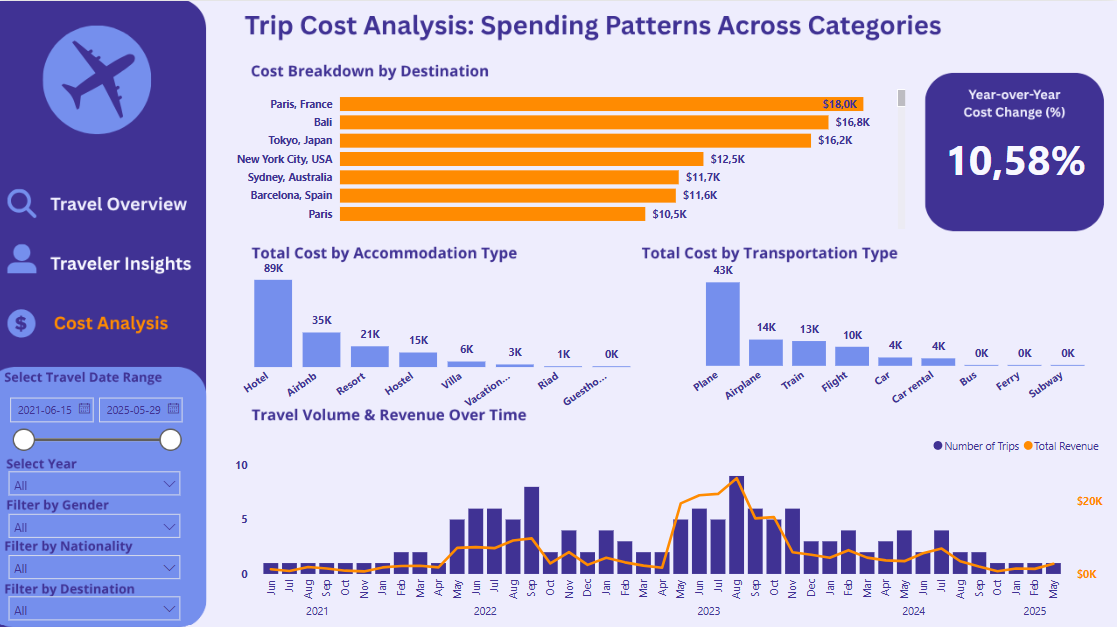

This screenshot's page, from the dashboard's own definition file:
{"tool":"powerbi","page":{"name":"Trip Cost Analysis","canvas":[1280,720],"ordinal":3},"visuals":[{"type":"clusteredColumnChart","fields":{"Category":["Travel details dataset.Accommodation Type"],"Y":["Travel details dataset.Accommodation Cost Total"]},"box":[267.1,282.9,485,195.7],"z":0},{"type":"clusteredColumnChart","fields":{"Category":["Travel details dataset.Transportation Type"],"Y":["Travel details dataset.Transportation Cost Total"]},"box":[785.7,281.4,482.9,195.7],"z":1000},{"type":"barChart","fields":{"Category":["Travel details dataset.Destination"],"Y":["Travel details dataset.Total Revenue"]},"box":[217.1,88.6,825.7,177.1],"z":2000},{"type":"card","fields":{"Values":["Travel details dataset.YoY Cost Change %"]},"box":[1072.9,120,182.9,120],"z":3000},{"type":"lineClusteredColumnComboChart","fields":{"Category":["DateTable.Year","DateTable.MonthName"],"Y":["Travel details dataset.Total Trips"],"Y2":["Travel details dataset.Total Revenue"]},"box":[267.1,488.6,1001.4,231.4],"z":4000},{"type":"actionButton","title":"Travel Insights","box":[2.6,268.5,230,65.4],"z":5000},{"type":"actionButton","title":"Travel Insights","box":[2.6,335.4,230,66.2],"z":6000},{"type":"actionButton","title":"Travel Insights","box":[2.6,201.5,230,64.6],"z":7000},{"type":"slicer","fields":{"Values":["DateTable.Date"]},"box":[2.9,448.6,207.1,78.6],"z":10000},{"type":"slicer","fields":{"Values":["Travel details dataset.Destination"]},"box":[4.3,675.7,205.7,44.3],"z":11000},{"type":"slicer","fields":{"Values":["Travel details dataset.Traveler Nationality"]},"box":[4.3,628.6,205.7,34.3],"z":12000},{"type":"slicer","fields":{"Values":["Travel details dataset.Traveler Gender"]},"box":[4.3,582,205.7,35.7],"z":14000},{"type":"slicer","fields":{"Values":["DateTable.Year"]},"box":[3.7,533,205.7,34.3],"z":15000}]}

Visuals, with their boxes on the page's 1280x720 design canvas (x1, y1, x2, y2). These are canvas units, not pixel positions in the 1117x627 screenshot, which may show the page scaled, cropped or inside an application window:
clusteredColumnChart - Travel details dataset.Accommodation Type x Travel details dataset.Accommodation Cost Total: crop(267, 283, 752, 479)
clusteredColumnChart - Travel details dataset.Transportation Type x Travel details dataset.Transportation Cost Total: crop(786, 281, 1269, 477)
barChart - Travel details dataset.Destination x Travel details dataset.Total Revenue: crop(217, 89, 1043, 266)
card - Travel details dataset.YoY Cost Change %: crop(1073, 120, 1256, 240)
lineClusteredColumnComboChart - DateTable.Year x DateTable.MonthName: crop(267, 489, 1268, 720)
"Travel Insights" actionButton: crop(3, 268, 233, 334)
"Travel Insights" actionButton: crop(3, 335, 233, 402)
"Travel Insights" actionButton: crop(3, 202, 233, 266)
slicer - DateTable.Date: crop(3, 449, 210, 527)
slicer - Travel details dataset.Destination: crop(4, 676, 210, 720)
slicer - Travel details dataset.Traveler Nationality: crop(4, 629, 210, 663)
slicer - Travel details dataset.Traveler Gender: crop(4, 582, 210, 618)
slicer - DateTable.Year: crop(4, 533, 209, 567)
